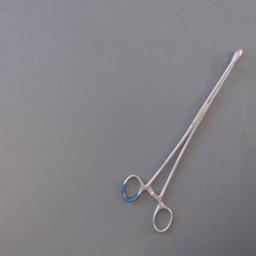Sponge Forceps: (116, 42, 248, 238)
